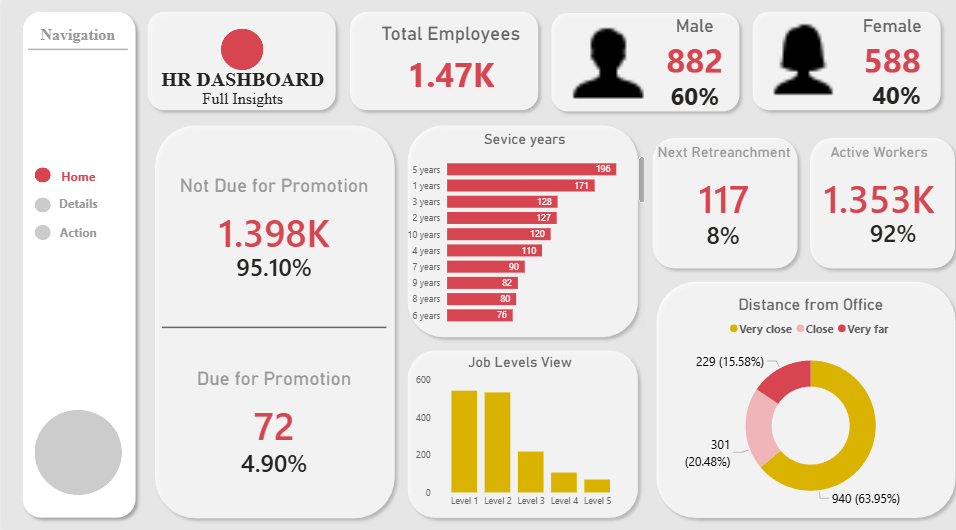

The dashboard page shown, as its layout file describes it:
{"tool":"powerbi","page":{"name":"Home","canvas":[1280,720],"ordinal":0},"visuals":[{"type":"shape","box":[17.8,12.3,168.8,693],"z":0},{"type":"shape","box":[185.2,12.3,269,149.6],"z":1000},{"type":"shape","box":[454.2,12.3,269,149.6],"z":2000},{"type":"shape","box":[723.2,13.7,269,149.6],"z":3000},{"type":"shape","box":[992.1,12.3,269,149.6],"z":4000},{"type":"shape","box":[194.9,163.3,337.6,542],"z":5000},{"type":"shape","box":[532.4,163.3,325.2,300.5],"z":6000},{"type":"shape","box":[532.4,463.8,325.2,241.5],"z":7000},{"type":"shape","box":[857.6,179.8,211.3,192.1],"z":8000},{"type":"shape","box":[863.1,371.9,417.2,333.4],"z":9000},{"type":"shape","box":[1069,179.8,211.3,192.1],"z":10000},{"type":"cardVisual","title":"Total Employees","fields":{"Data":["All Measures.Total Employees"]},"box":[475.7,35.7,247.1,107.1],"z":11000},{"type":"cardVisual","title":"Female","fields":{"Data":["All Measures.Female"]},"box":[1115.7,25.7,144.3,94.3],"z":12000},{"type":"cardVisual","title":"Male","fields":{"Data":["All Measures.Male"]},"box":[857.1,25.7,134.3,94.3],"z":13000},{"type":"cardVisual","title":"Total Employees","fields":{"Data":["All Measures.% male"]},"box":[857.1,98.6,134.3,65.7],"z":14000},{"type":"cardVisual","title":"Total Employees","fields":{"Data":["All Measures.% female"]},"box":[1127.1,91.4,132.9,75.7],"z":15000},{"type":"textbox","box":[201.4,91.4,238.6,50],"z":16000},{"type":"textbox","box":[201.7,119.4,238.8,43.9],"z":17000},{"type":"shape","box":[291.4,42.9,57.1,55.7],"z":18000},{"type":"image","box":[1000,27.1,137.1,115.7],"z":19000},{"type":"image","box":[740,31.4,137.1,115.7],"z":20000},{"type":"cardVisual","title":"Due for Promotion","fields":{"Data":["All Measures.Due for Promotion"]},"box":[214.1,495.4,299.1,124.9],"z":21000},{"type":"cardVisual","title":"Not Due for Promotion","fields":{"Data":["All Measures.Not Due"]},"box":[214.1,238.8,299.1,120.8],"z":22000},{"type":"cardVisual","title":"Not Due for Promotion","fields":{"Data":["All Measures.% Not Due"]},"box":[214.1,299.1,299.1,120.8],"z":23000},{"type":"cardVisual","title":"Not Due for Promotion","fields":{"Data":["All Measures.% Due for Promotion"]},"box":[214.1,559.9,299.1,120.8],"z":24000},{"type":"shape","box":[214.1,435,299.1,13.7],"z":25000},{"type":"columnChart","title":"Job Levels View","fields":{"Category":["Data.Job Level"],"Y":["All Measures.Total Employees"]},"box":[546.1,476.2,288.2,215.4],"z":26000},{"type":"clusteredBarChart","title":"Sevice years","fields":{"Y":["All Measures.Total Employees"],"Category":["Data.Service years"]},"box":[532.4,179.8,330.7,269],"z":27000},{"type":"cardVisual","title":"Next Retreanchment","fields":{"Data":["All Measures.Retreanched"]},"box":[867.2,196.2,192.1,120.8],"z":28000},{"type":"cardVisual","title":"Not Due for Promotion","fields":{"Data":["All Measures.% Retreanched"]},"box":[897.4,256.6,130.4,120.8],"z":29000},{"type":"cardVisual","title":"Active Workers","fields":{"Data":["All Measures.On service"]},"box":[1058,196.2,222.3,120.8],"z":30000},{"type":"cardVisual","title":"Not Due for Promotion","fields":{"Data":["All Measures.% On service"]},"box":[1123.8,253.9,130.4,120.8],"z":31000},{"type":"donutChart","title":"Distance from Office","fields":{"Category":["Data.Distance Status"],"Y":["All Measures.Total Employees"]},"box":[876.8,397.9,403.4,293.7],"z":32000},{"type":"shape","box":[43.9,551.6,116.6,113.9],"z":33000},{"type":"textbox","box":[16.5,35.7,168.8,43.9],"z":34000},{"type":"shape","box":[35.7,64.5,133.1,12.3],"z":35000},{"type":"actionButton","box":[52.1,219.6,100.2,39.8],"z":36000},{"type":"actionButton","box":[52.1,256.6,100.2,39.8],"z":37000},{"type":"actionButton","box":[52.1,295,100.2,39.8],"z":38000},{"type":"shape","box":[43.9,229.2,22,20.6],"z":39000},{"type":"shape","box":[43.9,267.6,22,20.6],"z":40000},{"type":"shape","box":[43.9,304.6,22,20.6],"z":41000}]}

Visuals, with their boxes in screenshot pixels (x1, y1, x2, y2), scaled from the page's 1280x720 canvas onto the 956x530 screenshot:
shape: 13/9/139/519
shape: 138/9/339/119
shape: 339/9/540/119
shape: 540/10/741/120
shape: 741/9/942/119
shape: 146/120/398/519
shape: 398/120/641/341
shape: 398/341/641/519
shape: 641/132/798/274
shape: 645/274/955/519
shape: 798/132/955/274
"Total Employees" cardVisual: 355/26/540/105
"Female" cardVisual: 833/19/941/88
"Male" cardVisual: 640/19/740/88
"Total Employees" cardVisual: 640/73/740/121
"Total Employees" cardVisual: 842/67/941/123
textbox: 150/67/329/104
textbox: 151/88/329/120
shape: 218/32/260/73
image: 747/20/849/105
image: 553/23/655/108
"Due for Promotion" cardVisual: 160/365/383/457
"Not Due for Promotion" cardVisual: 160/176/383/265
"Not Due for Promotion" cardVisual: 160/220/383/309
"Not Due for Promotion" cardVisual: 160/412/383/501
shape: 160/320/383/330
"Job Levels View" columnChart: 408/351/623/509
"Sevice years" clusteredBarChart: 398/132/645/330
"Next Retreanchment" cardVisual: 648/144/791/233
"Not Due for Promotion" cardVisual: 670/189/768/278
"Active Workers" cardVisual: 790/144/955/233
"Not Due for Promotion" cardVisual: 839/187/937/276
"Distance from Office" donutChart: 655/293/955/509
shape: 33/406/120/490
textbox: 12/26/138/59
shape: 27/47/126/57
actionButton: 39/162/114/191
actionButton: 39/189/114/218
actionButton: 39/217/114/246
shape: 33/169/49/184
shape: 33/197/49/212
shape: 33/224/49/239
